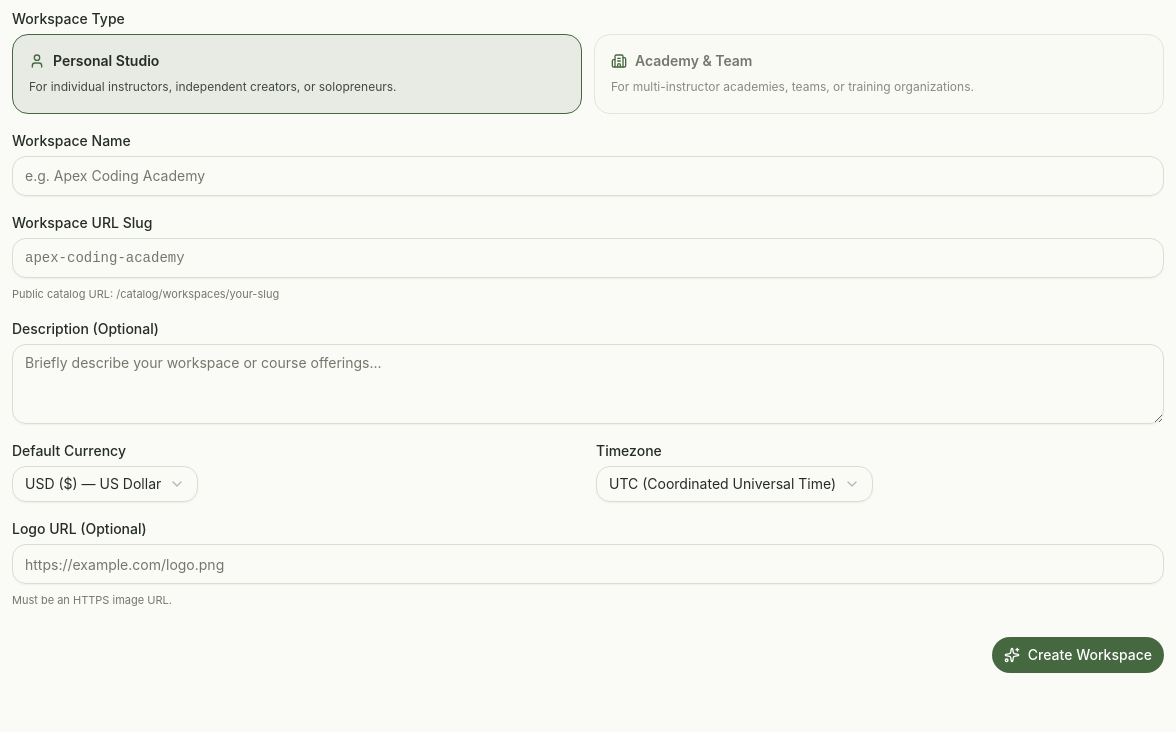
Test: Workspaces Feature › CreateWorkspaceForm › displays error banner when workspace creation fails
In the field labelled "Workspace Name": {"x": 588, "y": 176} 12,156 -> 1164,196, type "Duplicate Slug Studio"
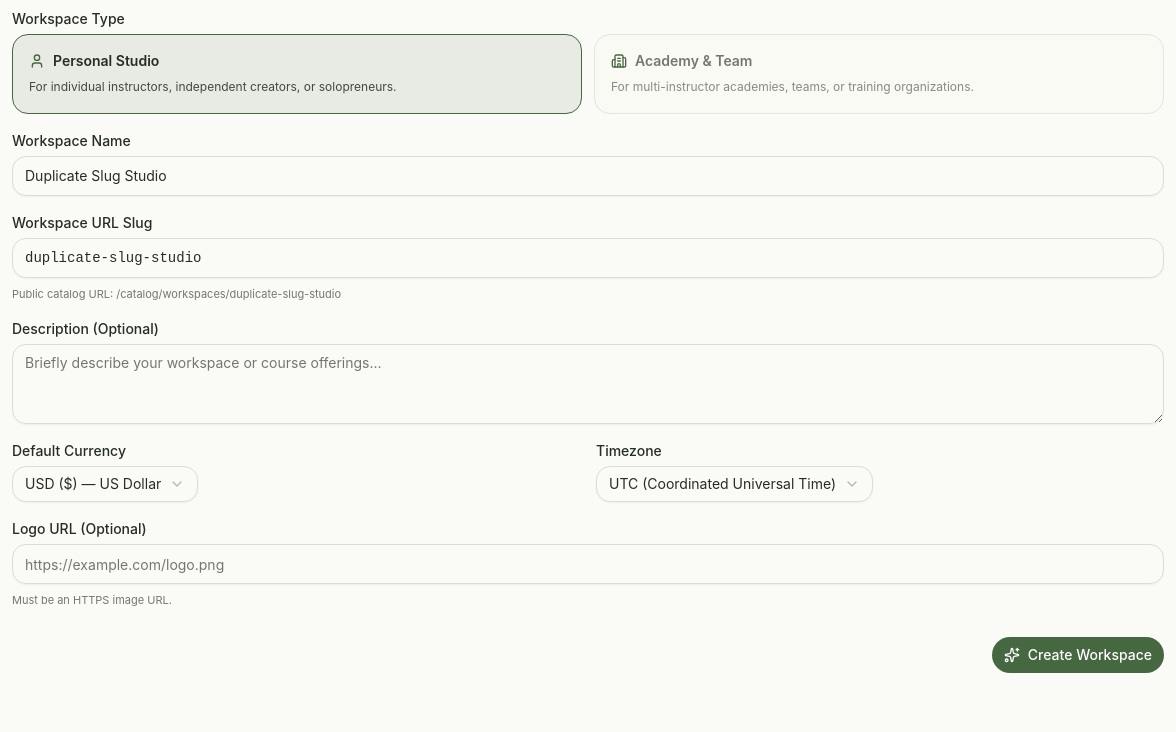
Click the button "Create Workspace": {"x": 1078, "y": 654} 992,636 -> 1164,672
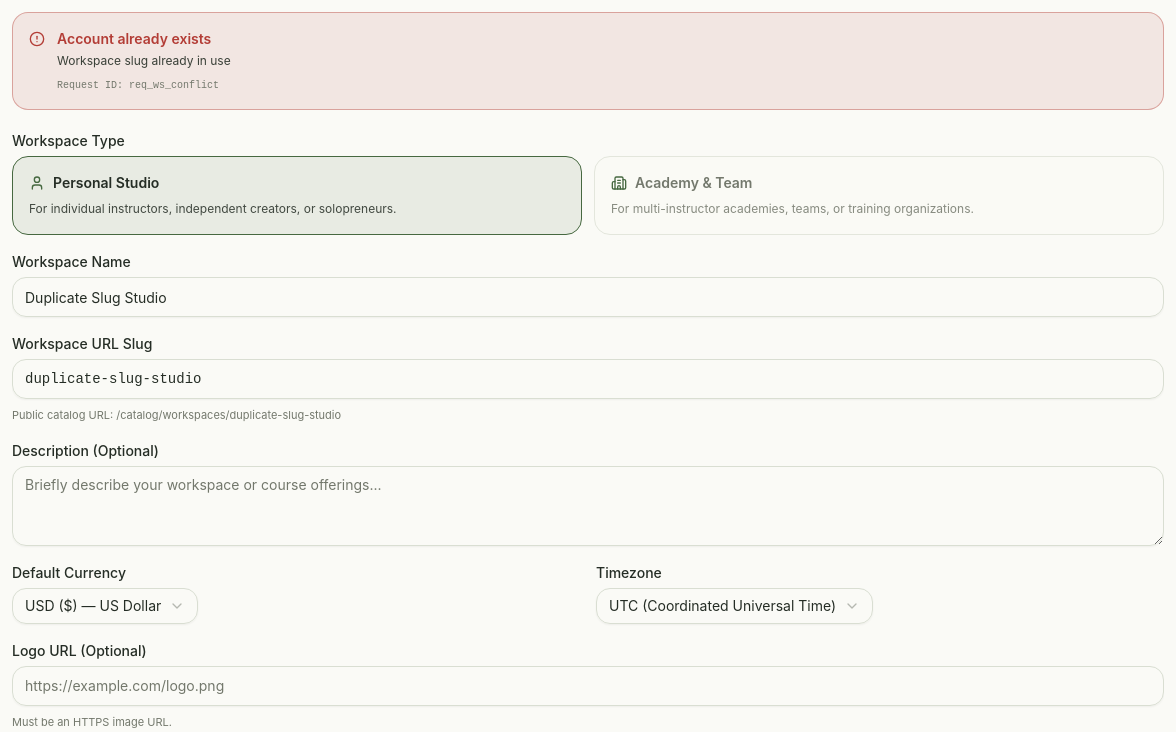
Result: the message shows "Workspace slug already in use" at 57,53 -> 231,68
Result: the message shows "req_ws_conflict" at 129,80 -> 219,90
